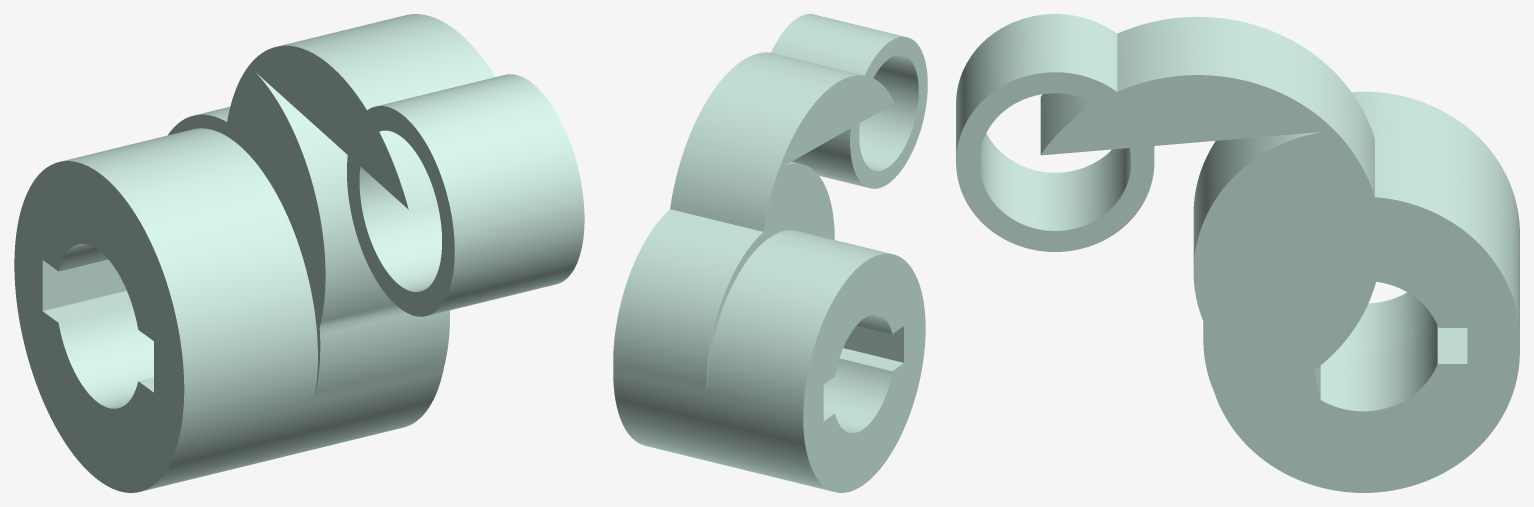
3 views of the same model, side by side, from view 1: azimuth 30°, elevation 25°; view 2: azimuth 150°, elevation 25°; view 3: azimuth 270°, elevation 25° (orthographic). The views are drawn at different scales.
Visible parts, largest first — view 1: Renderer Node; view 2: Renderer Node; view 3: Renderer Node.
Boxes of the visible parts, x1,y1,x2,y2 form: Renderer Node: (14,14,584,492); Renderer Node: (613,14,927,492); Renderer Node: (956,14,1519,492).
Bounding box in the file's own units: 0.5234 × 0.8682 × 1.05.
